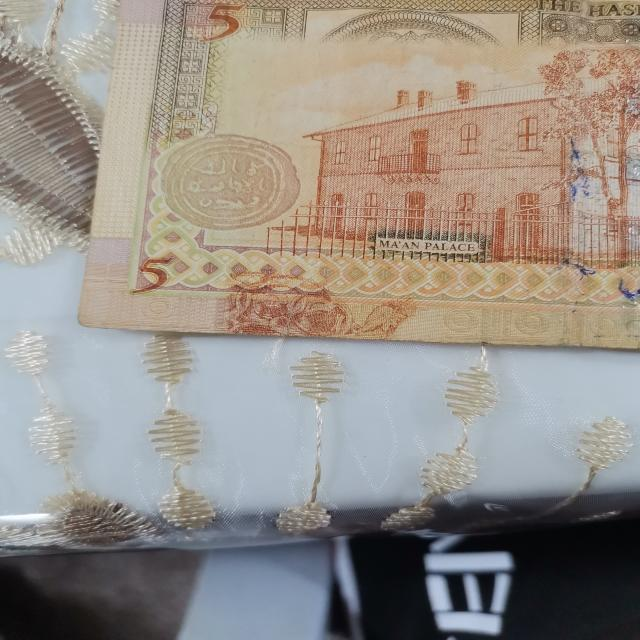5-dinar: (68, 0, 640, 358)
